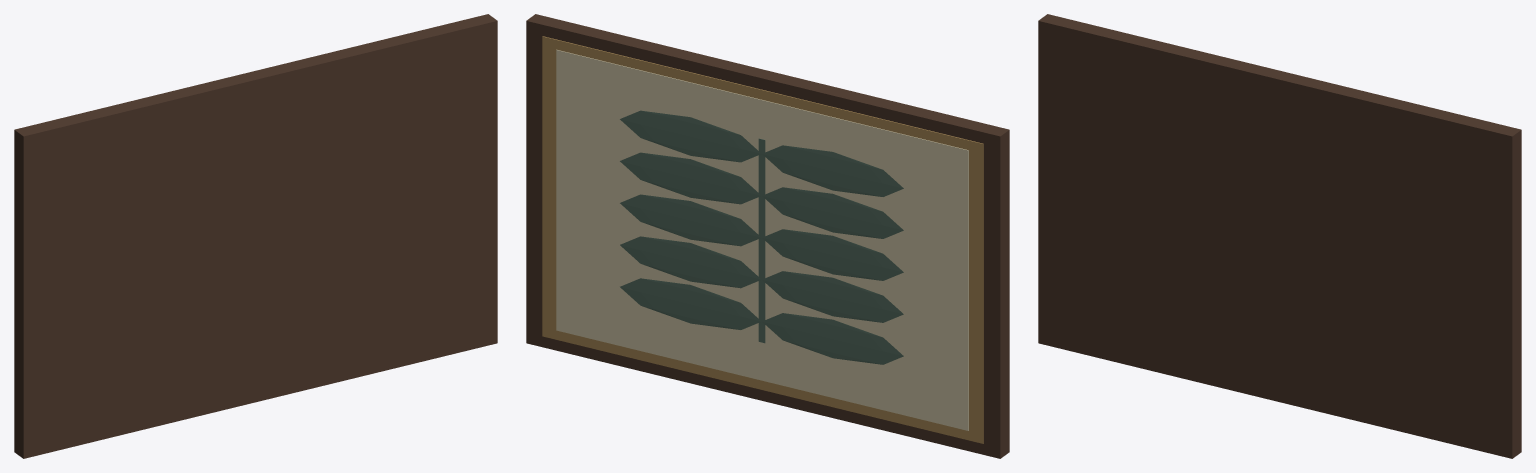
File: LP_StoneAge_WallGraphic.fbx
3 views of the same model, side by side, from view 1: azimuth 30°, elevation 25°; view 2: azimuth 150°, elevation 25°; view 3: azimuth 330°, elevation 25° (orthographic).
Parts seen in each view (by area): view 1: Walnut; view 2: WarmIvory, SageUpholstery, Walnut, AgedBrass; view 3: Walnut.
Boxes of the visible parts, left/top/right/bottom form: Walnut: left=14, top=14, right=497, bottom=458; WarmIvory: left=556, top=49, right=968, bottom=430; SageUpholstery: left=620, top=110, right=903, bottom=364; Walnut: left=526, top=14, right=1009, bottom=458; AgedBrass: left=542, top=36, right=983, bottom=443; Walnut: left=1038, top=14, right=1521, bottom=458.
Size of the model in its own units: 200 by 130 by 8.
